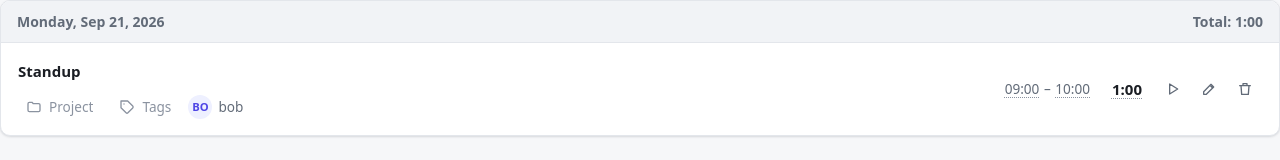
inline entry editing › keeps edit mode with the typed value for an invalid duration
The width and height of the screenshot is (1280, 160).
Click the button named "Edit duration" at {"x": 1123, "y": 89}, box [1097,73,1149,105]
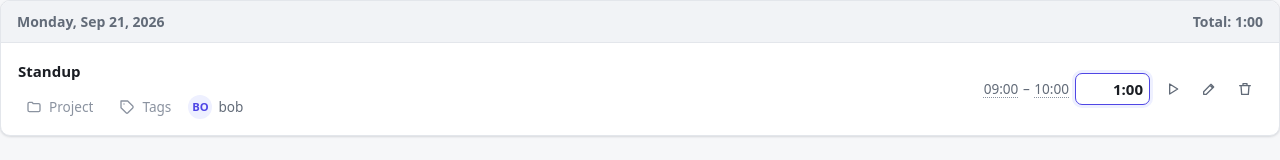
Replace the text in the field named "Edit duration" with "25:00" at {"x": 1112, "y": 89}, box [1075,73,1150,105]
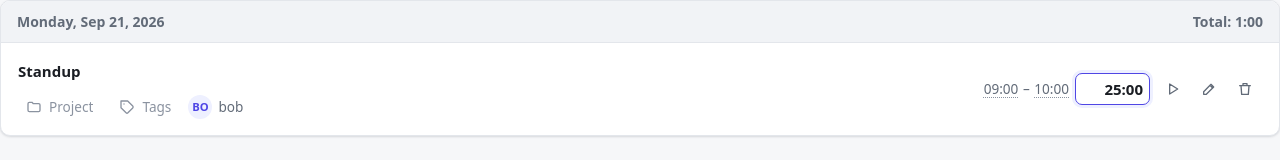
Press Enter in the field named "Edit duration", box [1075,73,1150,105]
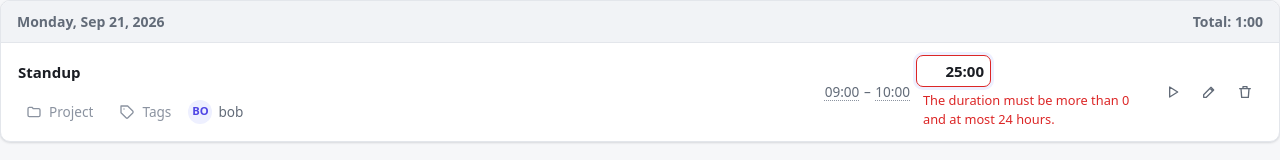
Expected: the message shows "at most 24 hours", [923,91,1129,128]
